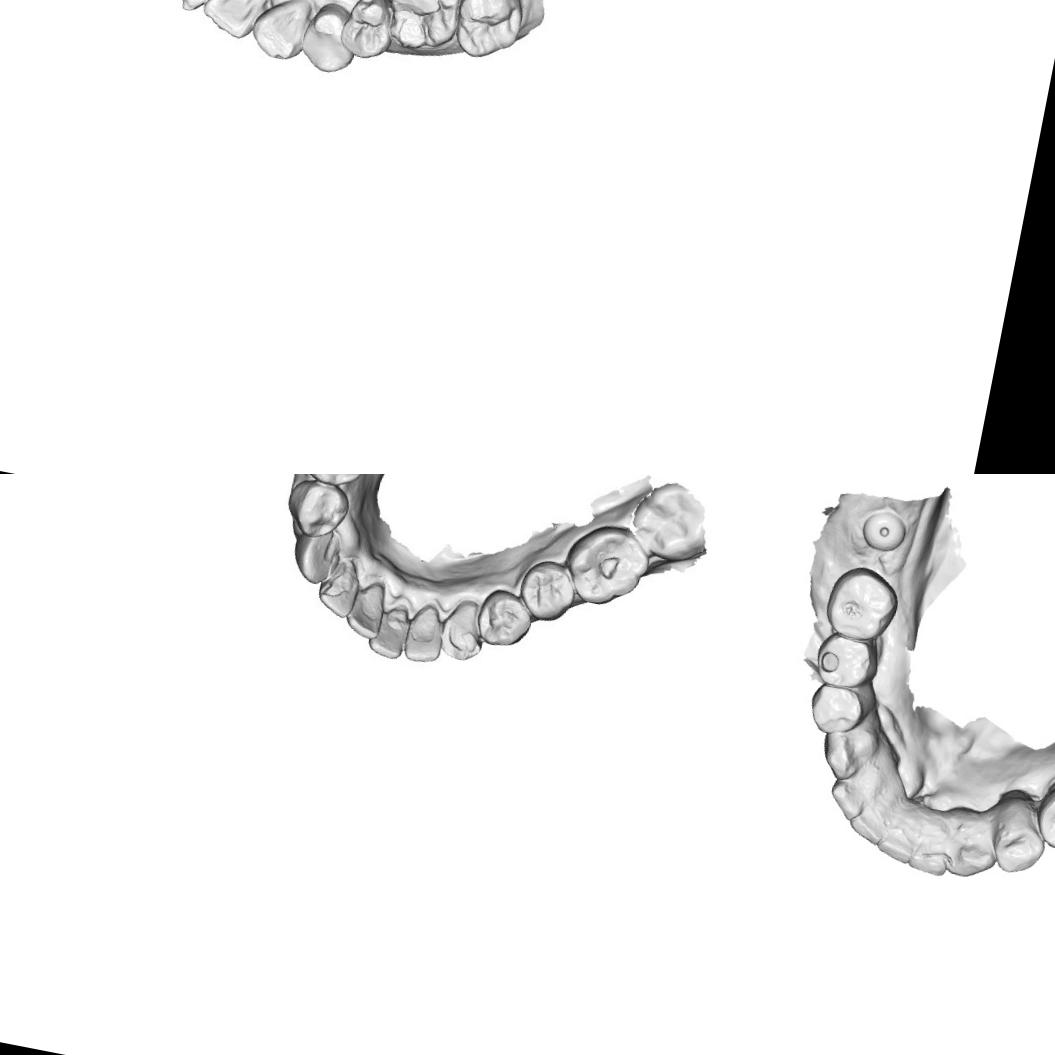canine: (284, 519, 346, 592), (248, 0, 313, 65), (434, 594, 492, 665), (816, 719, 876, 783), (946, 818, 1004, 883)
implant: (861, 507, 910, 552)
incisor: (907, 806, 962, 880), (876, 798, 932, 868), (400, 605, 452, 668), (846, 790, 900, 850), (314, 559, 364, 621), (364, 601, 412, 660), (824, 768, 873, 824), (196, 0, 261, 39), (342, 585, 386, 639), (155, 0, 232, 17)
molar: (557, 517, 650, 615), (622, 474, 716, 567), (824, 566, 902, 640), (448, 0, 531, 67), (379, 0, 467, 60)
premolar: (296, 2, 361, 80), (992, 800, 1053, 878), (283, 474, 351, 543), (512, 554, 578, 624), (334, 0, 402, 63), (472, 586, 535, 654), (810, 630, 880, 690), (805, 682, 869, 737), (1035, 773, 1055, 856), (292, 474, 368, 491)
